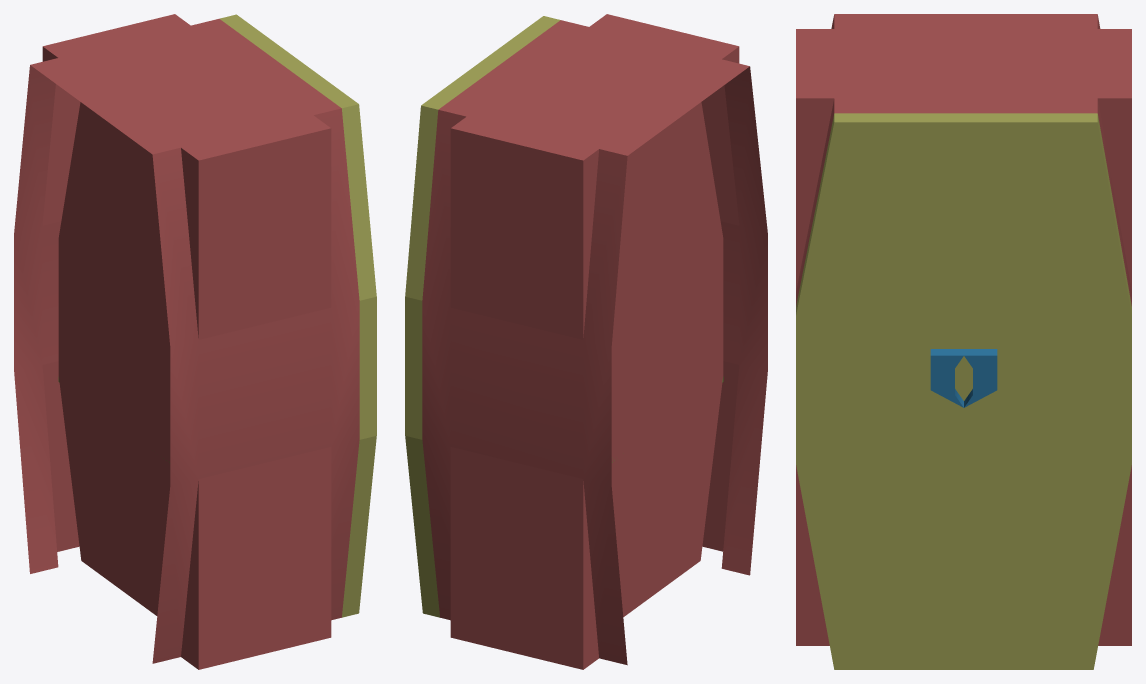
The model's file is Aufbewahrungsschrank_2_low.fbx.
3 renders of one model, left to right at view 1: azimuth 30°, elevation 25°; view 2: azimuth 150°, elevation 25°; view 3: azimuth 270°, elevation 25°, orthographic. The views are drawn at different scales.
Visible parts, largest first — view 1: Aufbewahrungsschrank_2_low; view 2: Aufbewahrungsschrank_2_low; view 3: Aufbewahrungsschrank_2_low.
Boxes of the visible parts, <box> form: Aufbewahrungsschrank_2_low: <box>14,14,376,669</box>; Aufbewahrungsschrank_2_low: <box>405,14,767,669</box>; Aufbewahrungsschrank_2_low: <box>796,14,1131,669</box>.
Size of the model in its own units: 0.8131 by 1.8 by 1.
